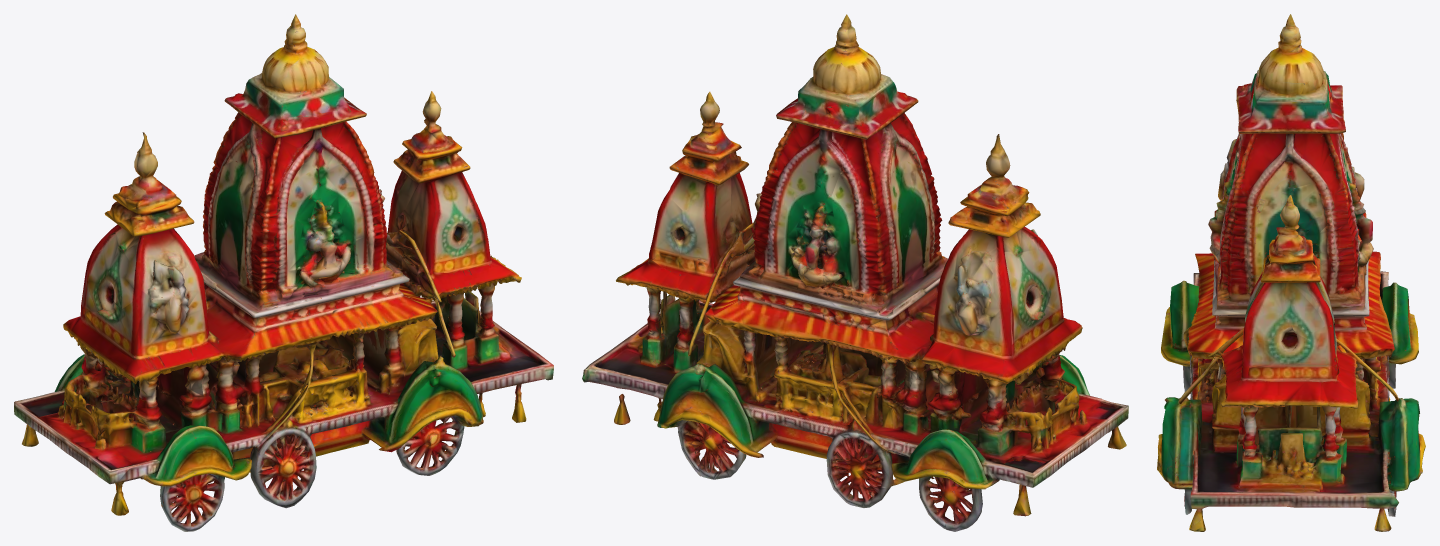
File: jagannath-rath.glb
The picture shows the model from 3 angles, left to right: view 1: azimuth 30°, elevation 25°; view 2: azimuth 150°, elevation 25°; view 3: azimuth 270°, elevation 25°; orthographic projection. The views are drawn at different scales.
Bounding box in the file's own units: 2 × 1.91 × 1.02.
1 material, 1 textured.
